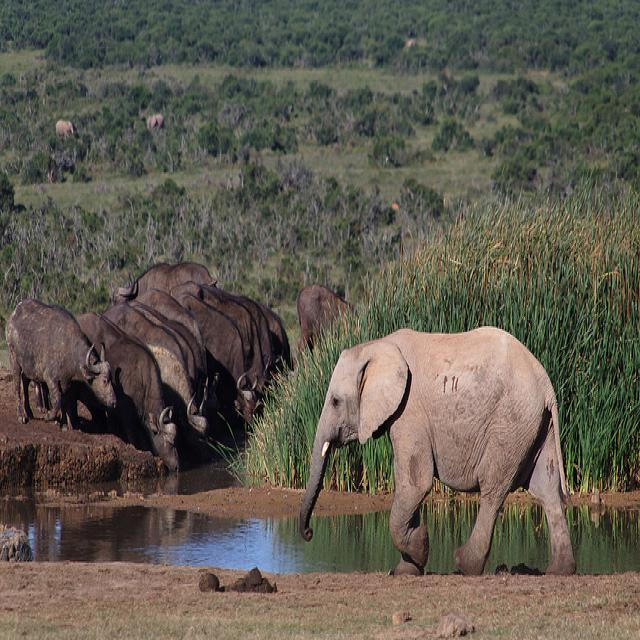cow: (103, 301, 214, 461), (74, 310, 179, 473), (3, 296, 114, 433), (124, 300, 237, 406), (177, 290, 259, 426), (105, 269, 206, 373), (171, 284, 260, 385), (294, 282, 350, 355), (257, 299, 292, 371)
